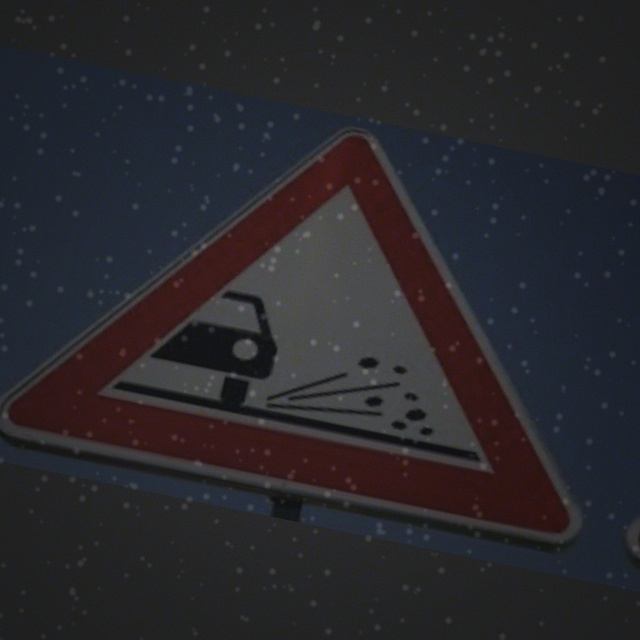Loose_Gravel: (39, 100, 614, 544)
